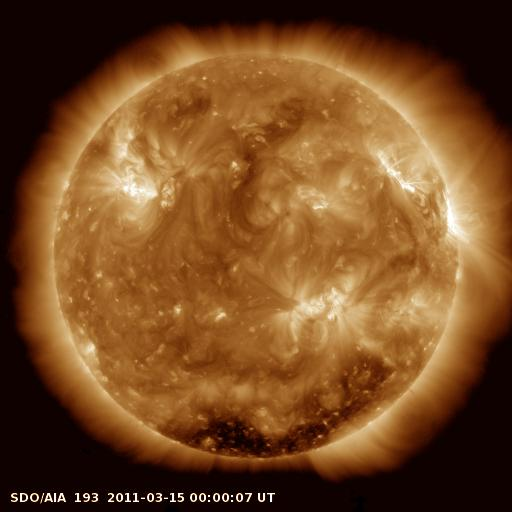coronal_hole: (157, 362, 391, 464)
